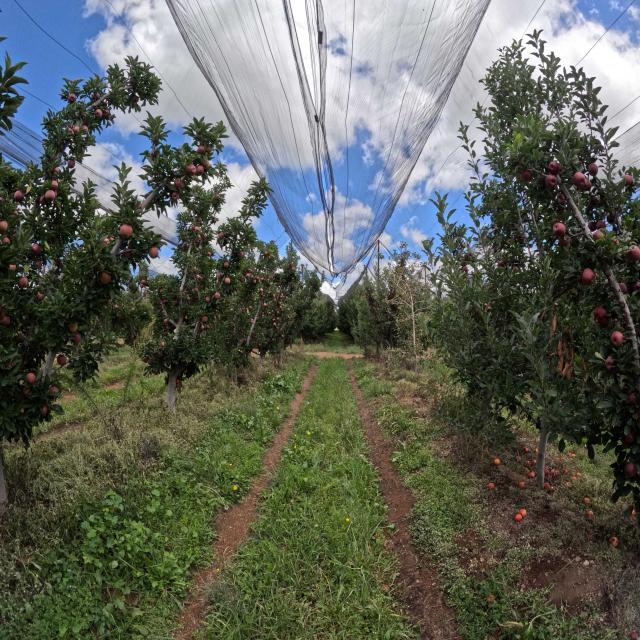-FireBlight-: (537, 302, 576, 382)
